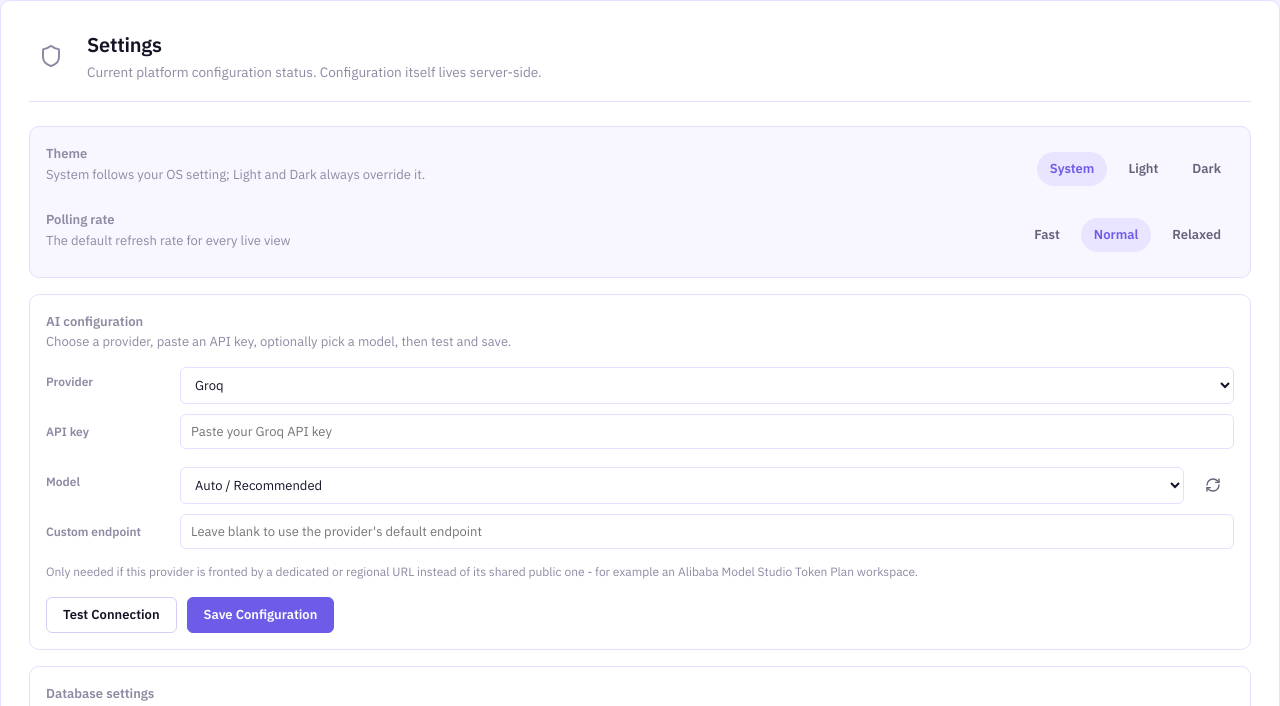
SettingsPage > AI configuration › Test Connection sends what was typed and shows a successful result
This screenshot has width=1280, height=706.
Type "gsk_typed_key" into the password field labelled "API key" at (707, 431), box [180,414,1234,448]
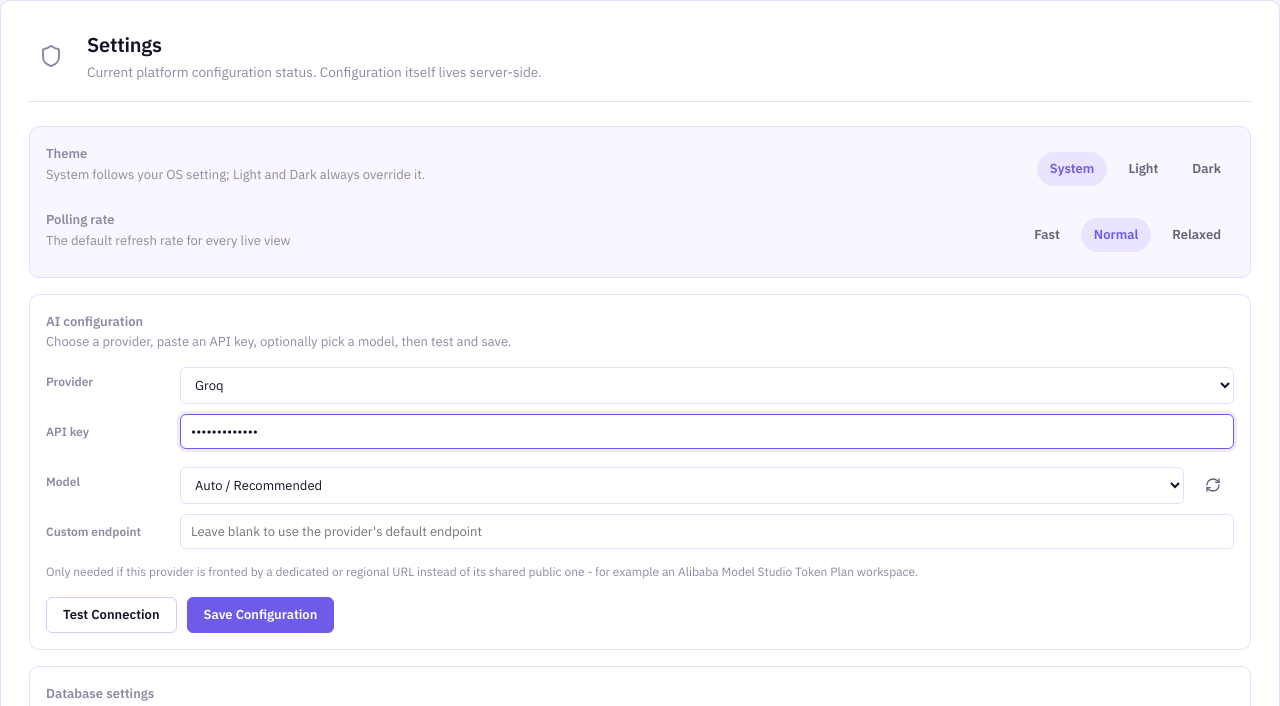
Click the button "Test Connection" at (111, 615), box [46,597,176,633]
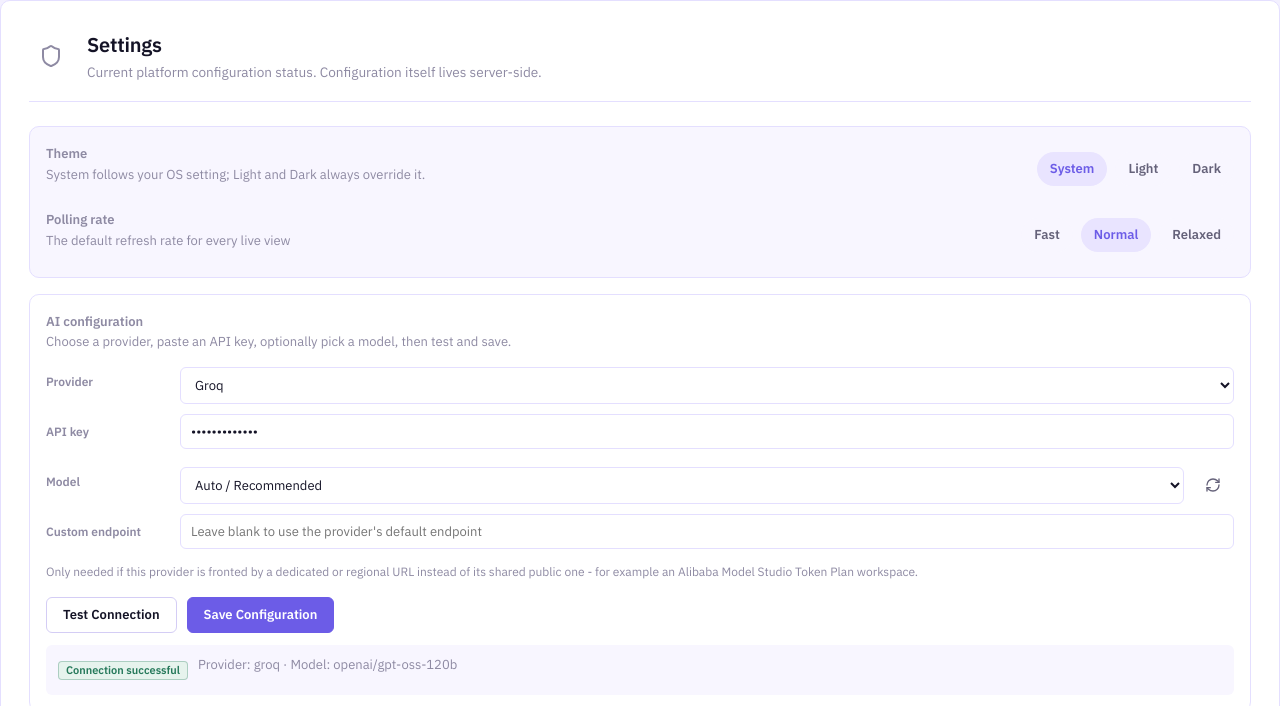
Now the text "Connection successful" is shown, box [58,660,188,680]
Now the text "Provider: groq · Model: openai/gpt-oss-120b" is shown, box [198,655,457,675]
